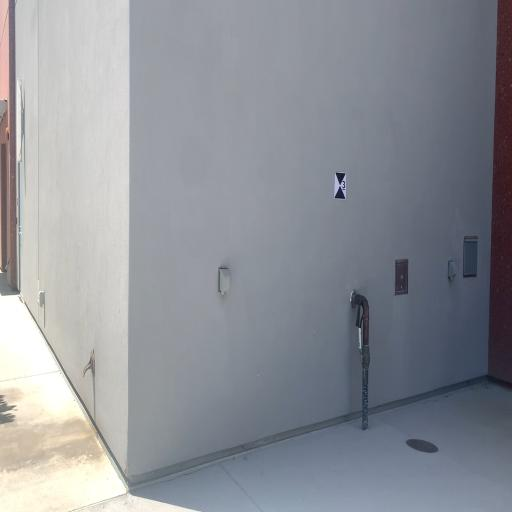target3: (334, 171, 347, 201)
